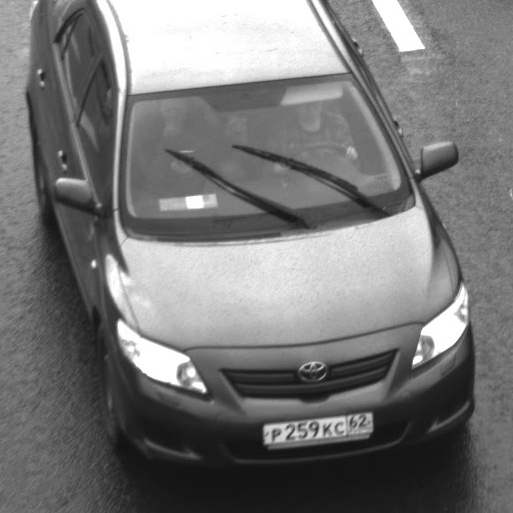plate: (252, 399, 380, 452)
